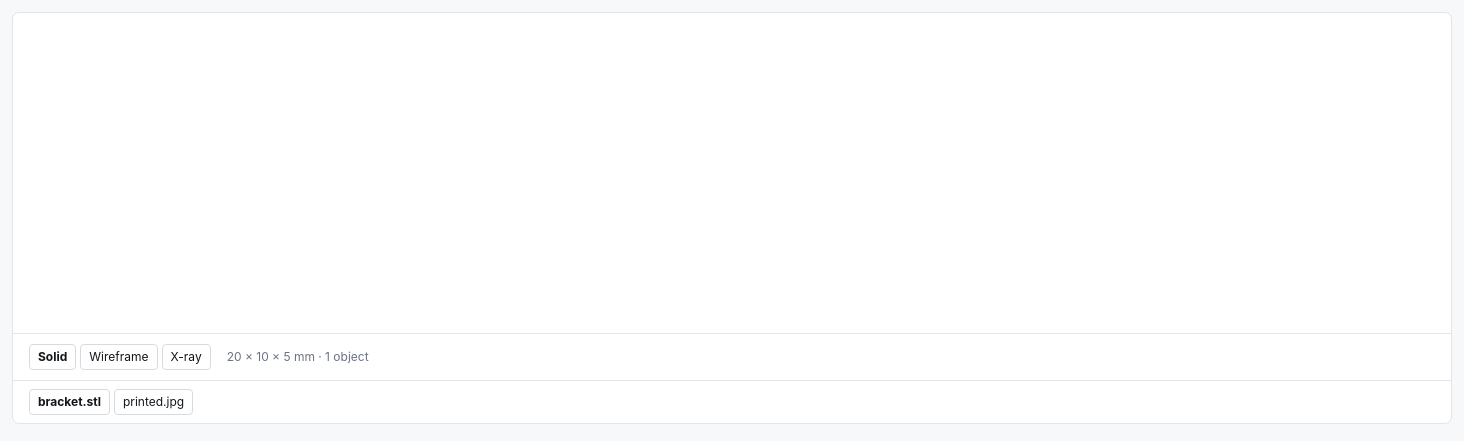
Scenario: FilePreviewPanel › offers files it cannot draw and says so when one is picked
Click the button "printed.jpg": {"x": 154, "y": 402} [114,389,193,415]
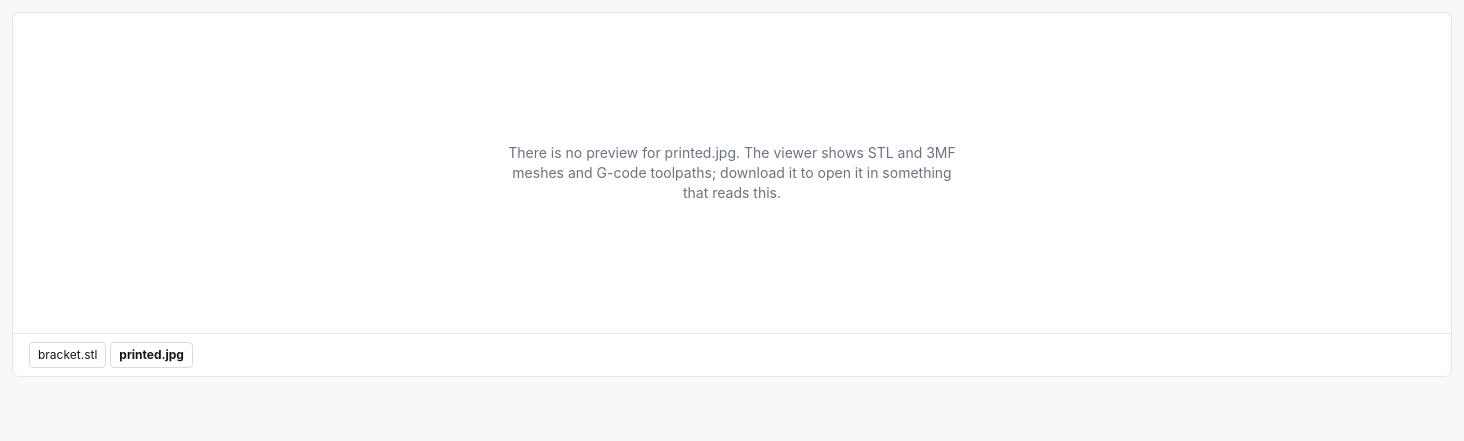
Expected: the element with test id "mesh-viewer" is gone
